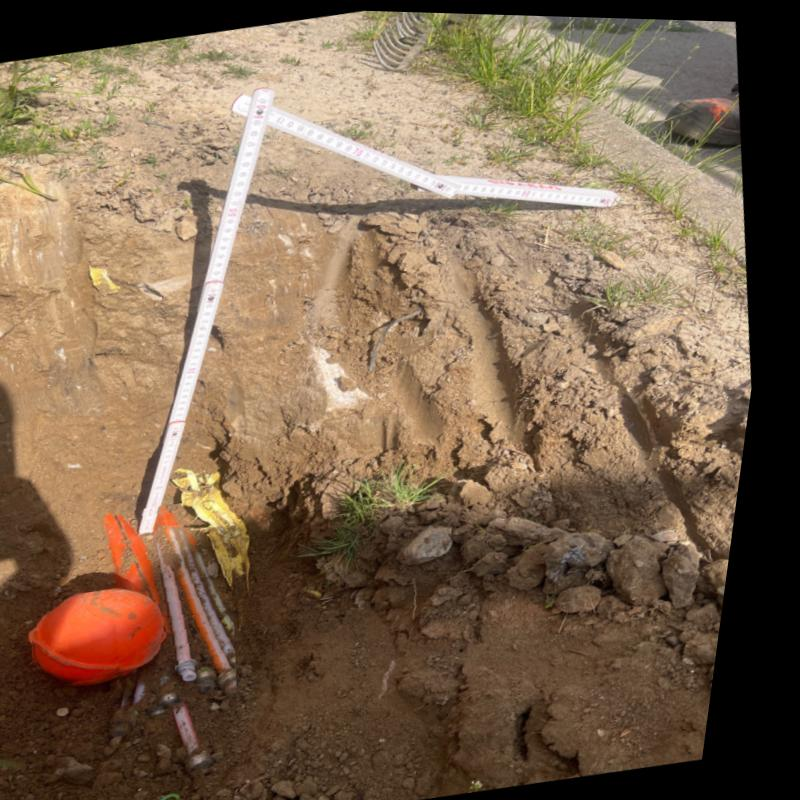Kugelmarker: (49, 586, 175, 681)
Orang-Speednetrohrchen: (118, 509, 256, 693)
